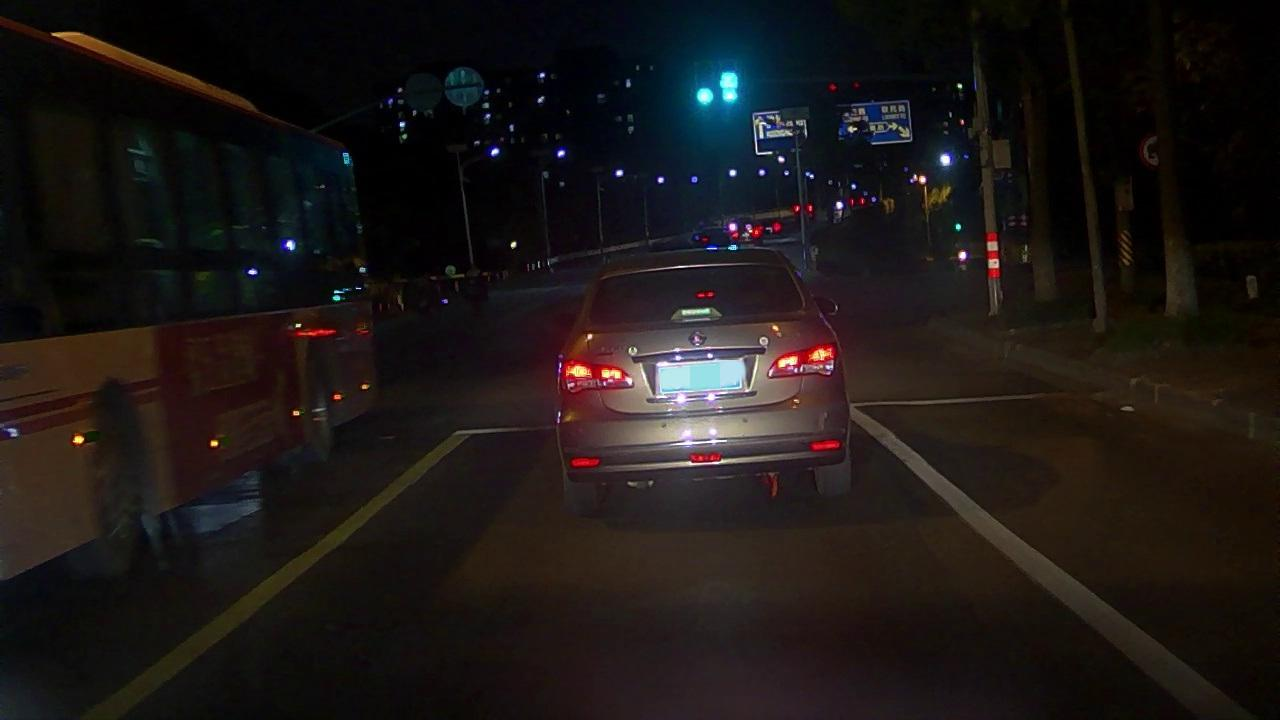traffic_light: (718, 66, 740, 106), (692, 83, 716, 109)
